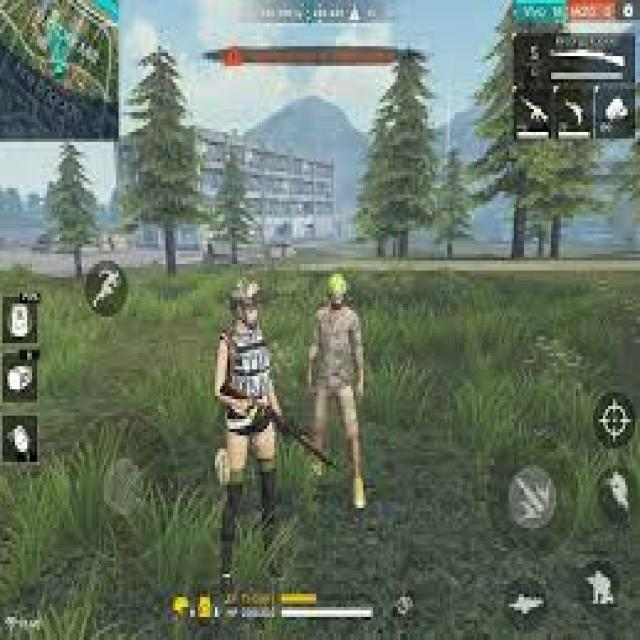character: (309, 273, 372, 513)
